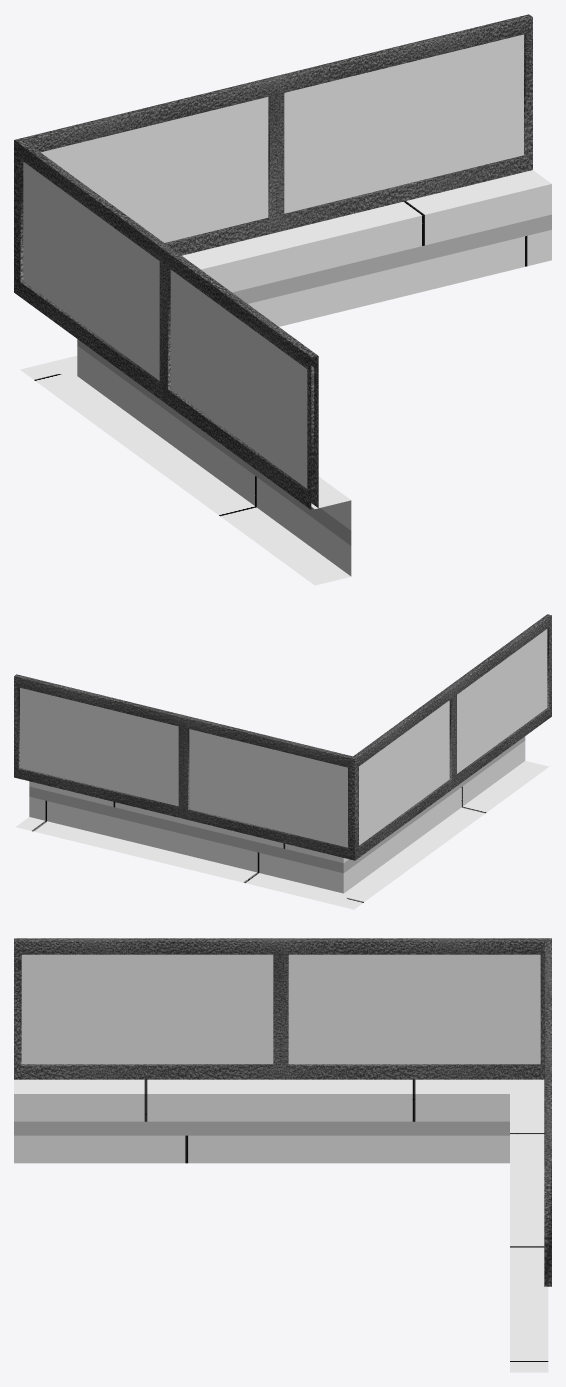
File: Parapet02_350cmAngle1.FBX
The picture shows the model from 3 angles, top to bottom: view 1: azimuth 30°, elevation 25°; view 2: azimuth 150°, elevation 25°; view 3: azimuth 270°, elevation 25°; orthographic projection. The views are drawn at different scales.
Visible parts, largest first — view 1: Parapet02_350cmAngle1; view 2: Parapet02_350cmAngle1; view 3: Parapet02_350cmAngle1.
Boxes of the visible parts, bbox=[...] form: Parapet02_350cmAngle1: bbox=[14, 14, 551, 585]; Parapet02_350cmAngle1: bbox=[14, 614, 551, 909]; Parapet02_350cmAngle1: bbox=[14, 938, 551, 1372].
Bounding box in the file's own units: 353 × 150 × 353.
